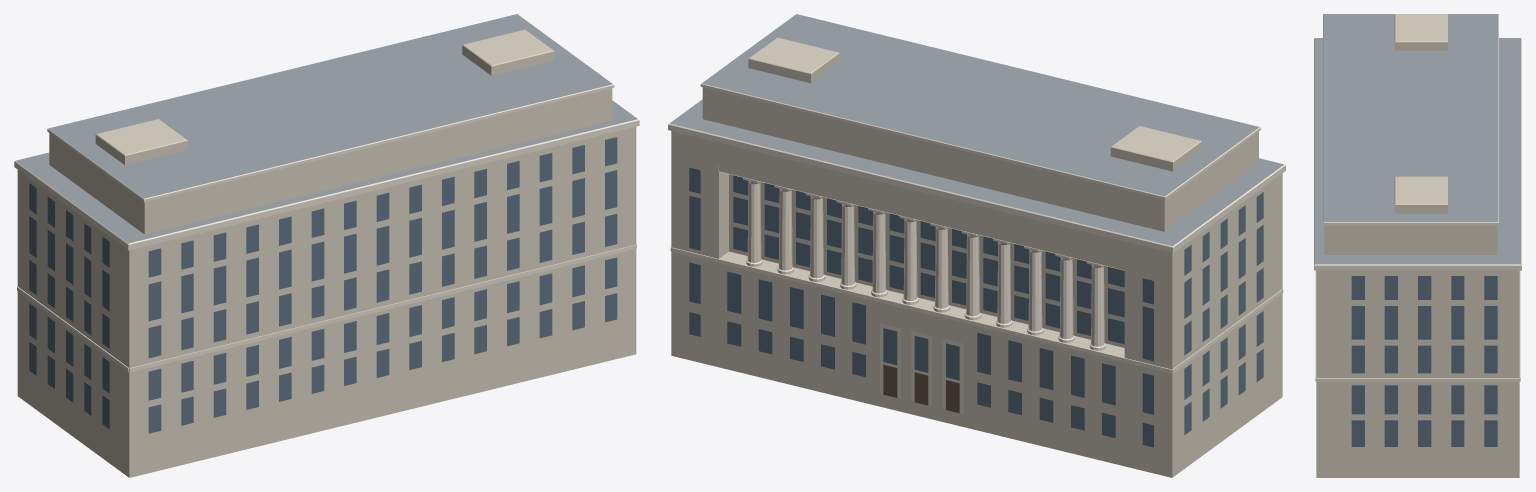
The model's file is nash-davidson-county-courthouse.glb.
3 renders of one model, left to right at view 1: azimuth 30°, elevation 25°; view 2: azimuth 150°, elevation 25°; view 3: azimuth 270°, elevation 25°, orthographic. The views are drawn at different scales.
Visible parts, largest first — view 1: Historic Davidson County Courthouse; view 2: Historic Davidson County Courthouse; view 3: Historic Davidson County Courthouse.
Boxes of the visible parts, x1=… form: Historic Davidson County Courthouse: x1=14, y1=14, x2=639, y2=477; Historic Davidson County Courthouse: x1=668, y1=14, x2=1285, y2=477; Historic Davidson County Courthouse: x1=1314, y1=14, x2=1521, y2=477.
Bounding box in the file's own units: 80.9 × 42.6 × 31.3.
